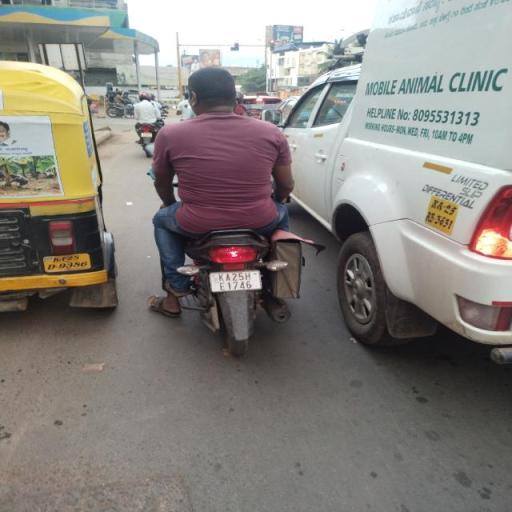bike: (132, 64, 323, 358)
numberplate: (208, 268, 264, 294)
withouthelmet: (188, 69, 232, 113)
